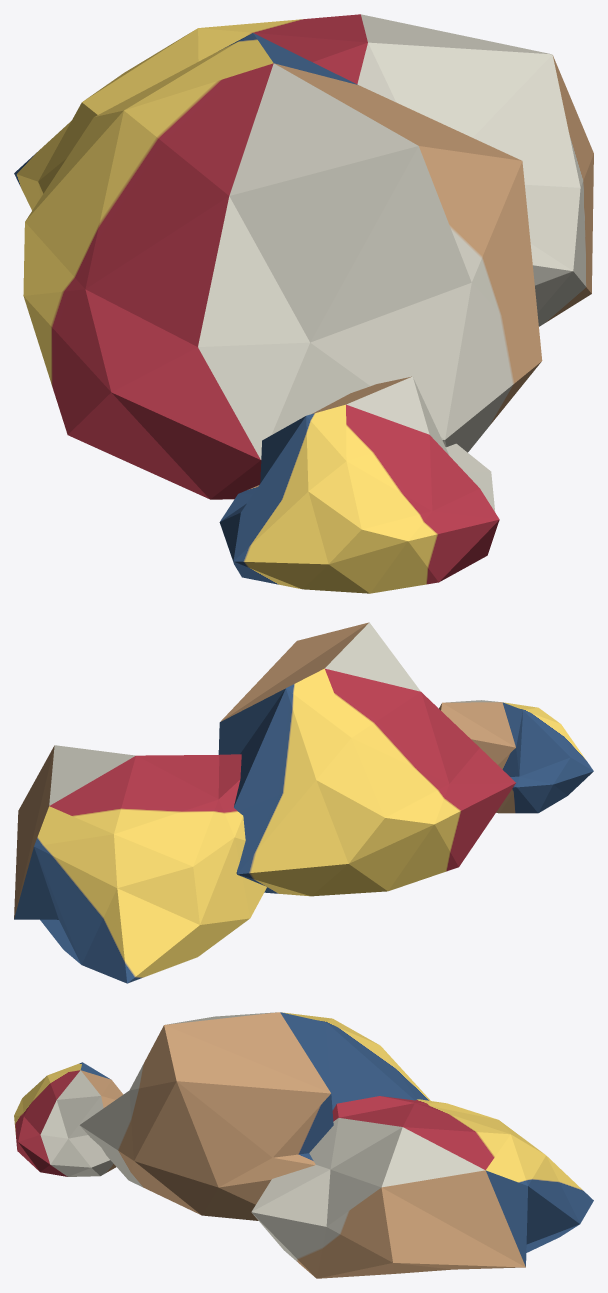
The model's file is Stone2.fbx.
3 views of the same model, one above another, from view 1: azimuth 30°, elevation 25°; view 2: azimuth 150°, elevation 25°; view 3: azimuth 270°, elevation 25° (orthographic). The views are drawn at different scales.
Visible parts, largest first — view 1: Icosphere, Icosphere.002, Icosphere.001; view 2: Icosphere, Icosphere.001, Icosphere.002; view 3: Icosphere.001, Icosphere, Icosphere.002.
Boxes of the visible parts, bbox=[...] form: Icosphere: bbox=[23, 33, 542, 499]; Icosphere.002: bbox=[219, 376, 499, 593]; Icosphere.001: bbox=[14, 14, 593, 326]; Icosphere: bbox=[218, 622, 515, 896]; Icosphere.001: bbox=[14, 745, 266, 983]; Icosphere.002: bbox=[439, 700, 593, 813]; Icosphere.001: bbox=[251, 1096, 593, 1278]; Icosphere: bbox=[79, 1012, 430, 1220]; Icosphere.002: bbox=[14, 1062, 123, 1176].
Size of the model in its own units: 323 by 154 by 457.
